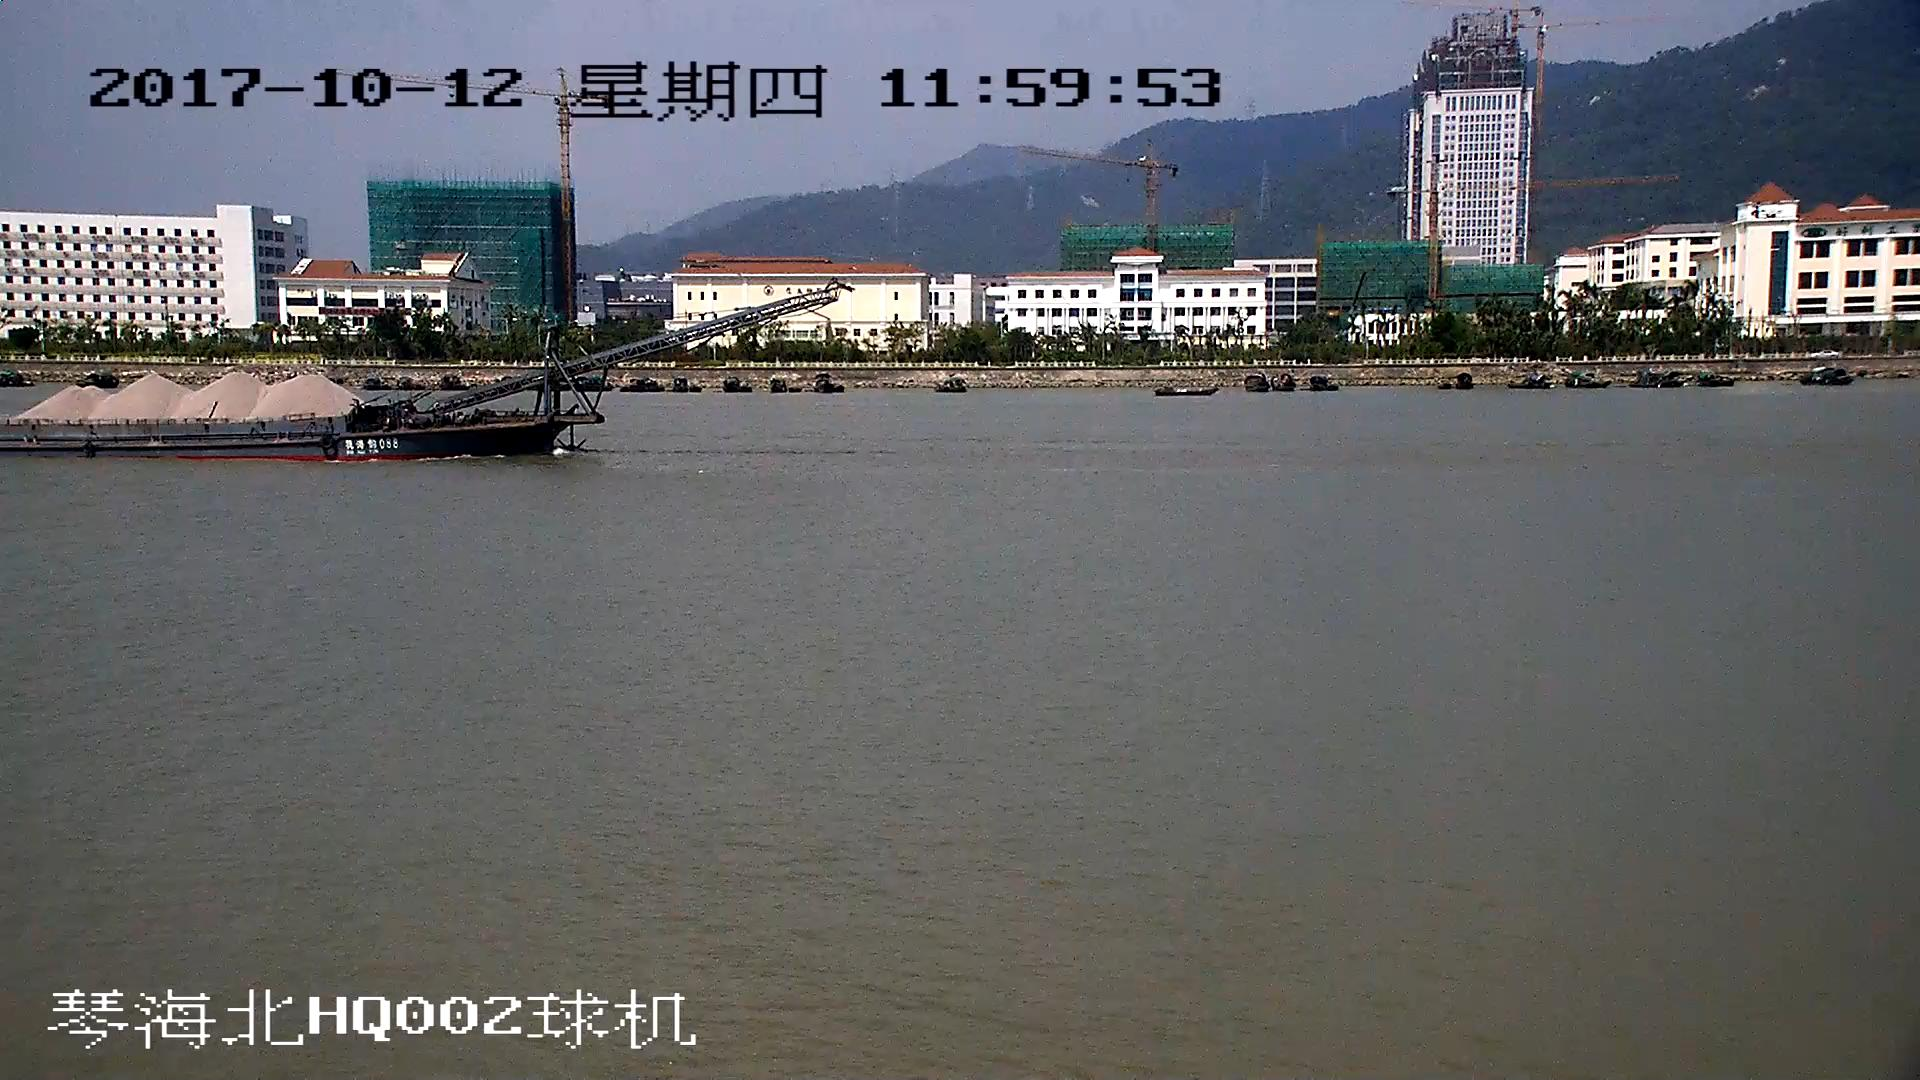ore carrier: (1, 293, 834, 460)
